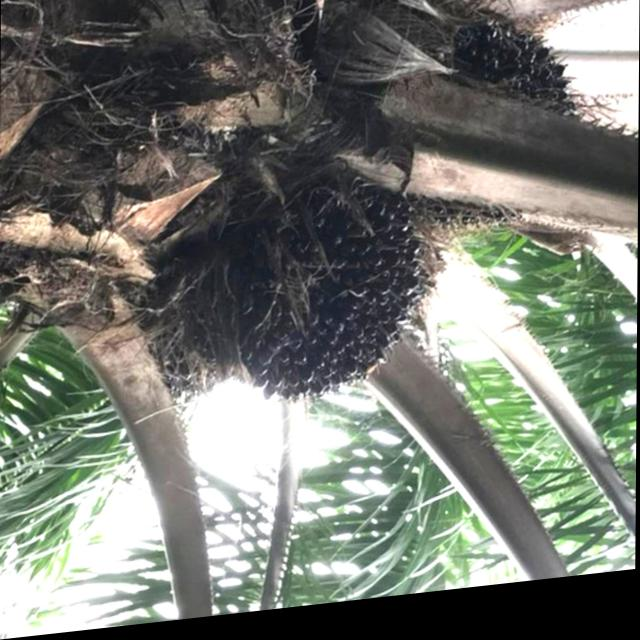almost: (236, 163, 440, 424), (410, 22, 587, 249)
